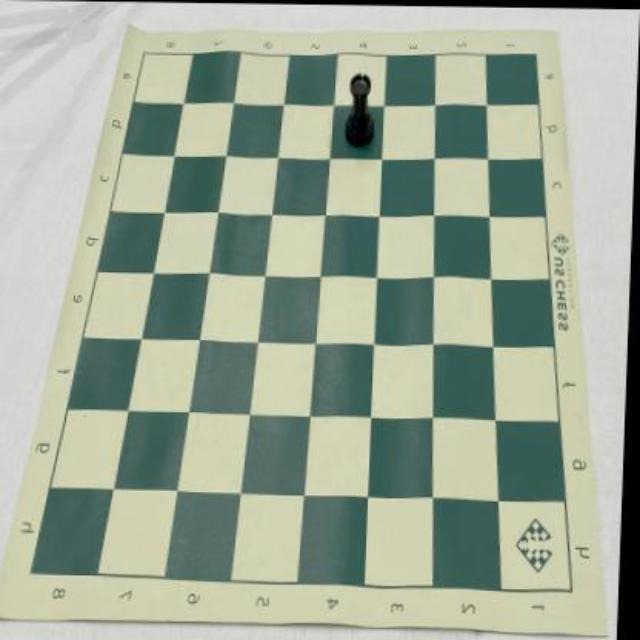black-rook: (346, 71, 378, 146)
